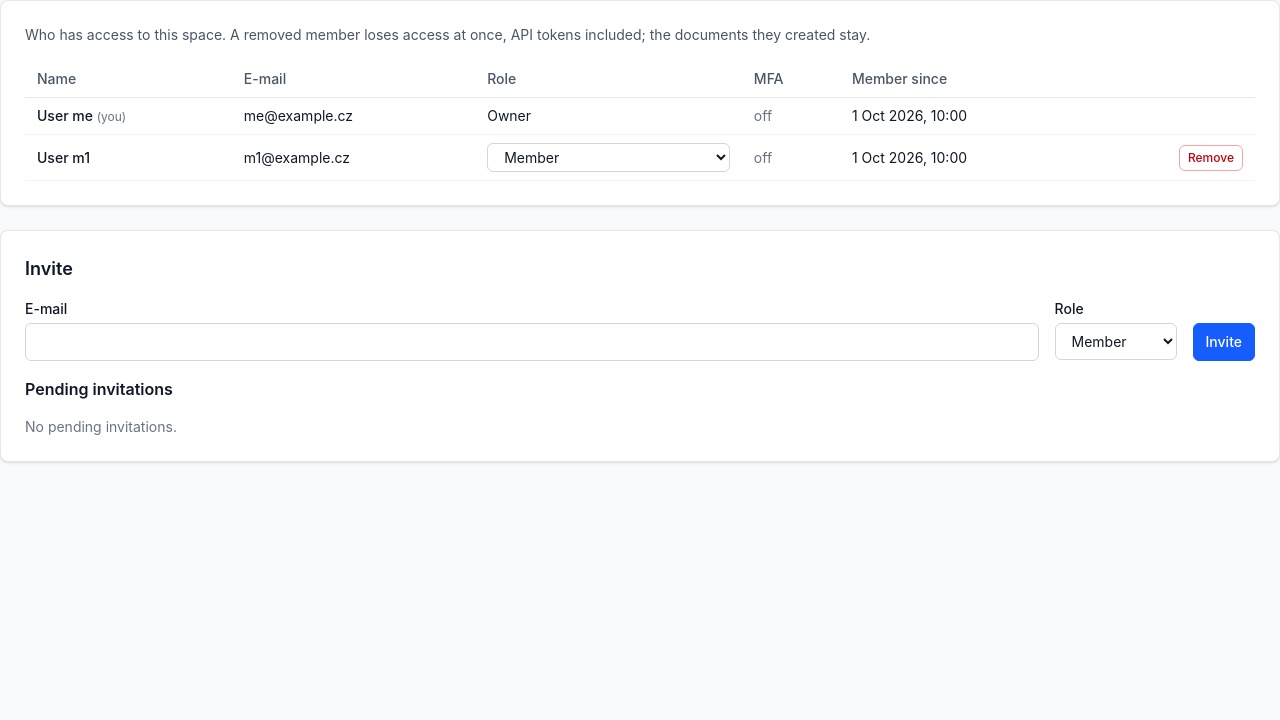
Scenario: MembersTab › changes a role and shows a refused change with its reason
Select "Admin" in the dropdown with test id "member-role" at (609, 158), box [487,143,730,172]
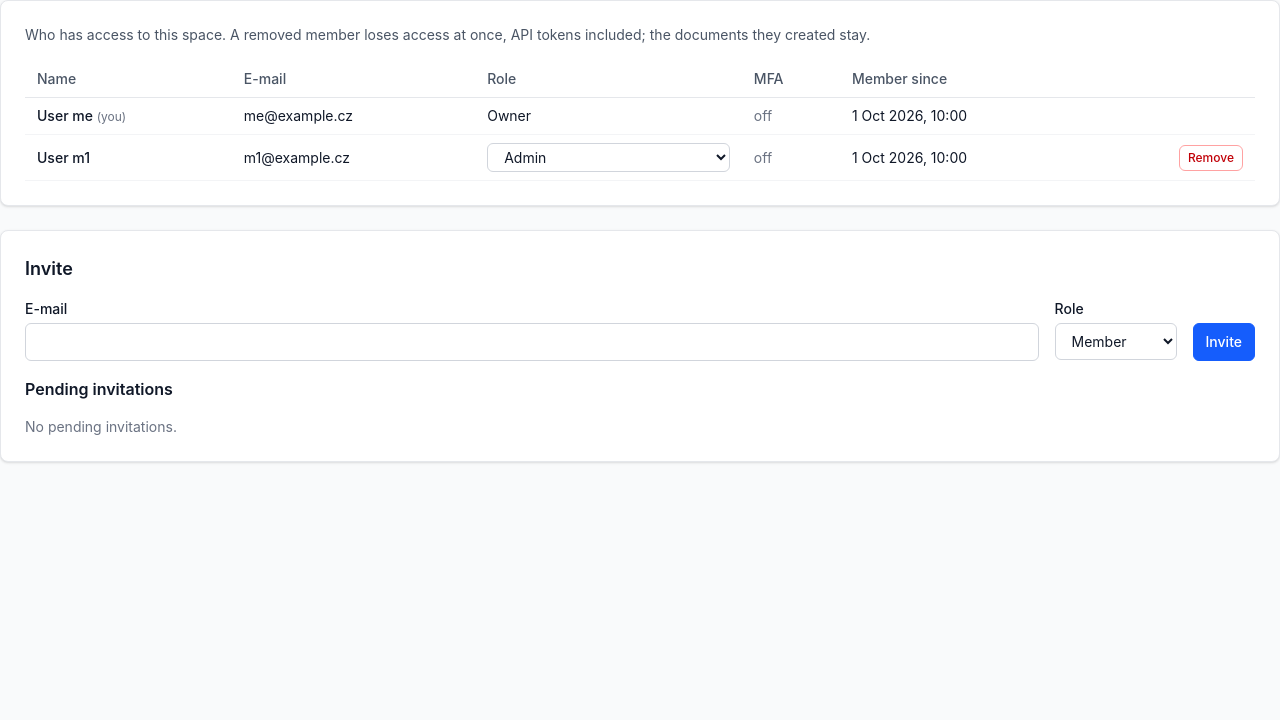
Select "Owner" in the dropdown with test id "member-role" at (609, 158), box [487,143,730,172]
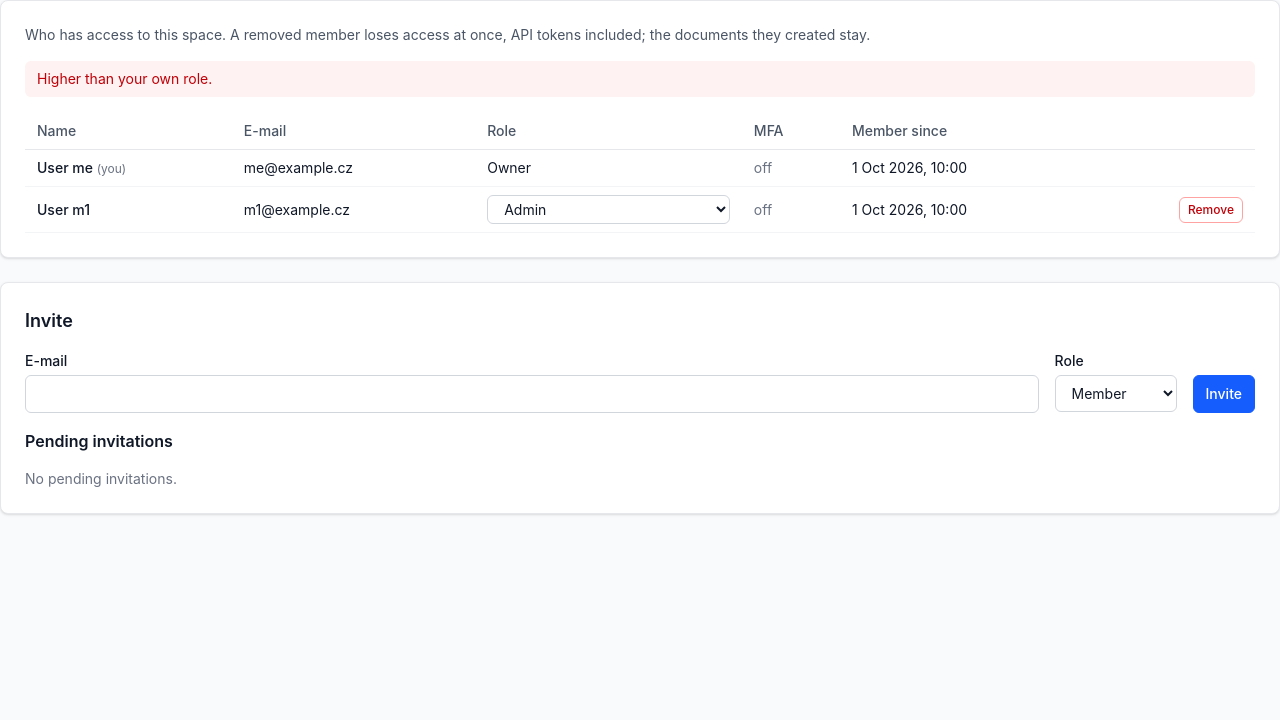
expect the message with test id "members-error" reads "Higher than your own role.": met, box [37,70,212,87]
